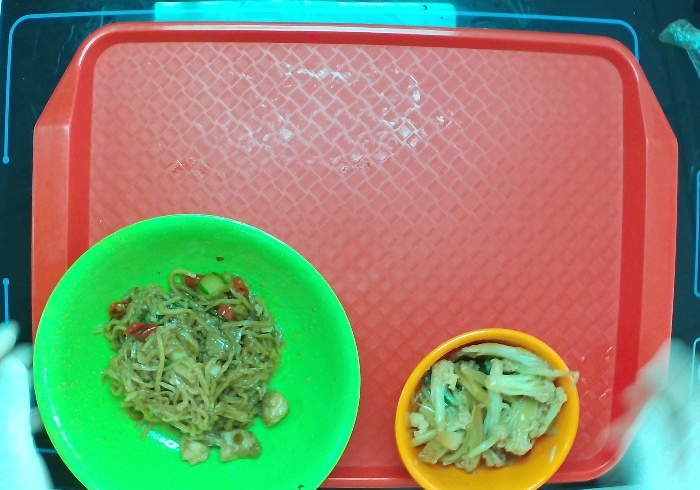YKMZ-Ju_Se_Yuan_Wan: (387, 324, 583, 488)
YKMZ-Lv_Se_Tang_Wan: (22, 206, 365, 490)
